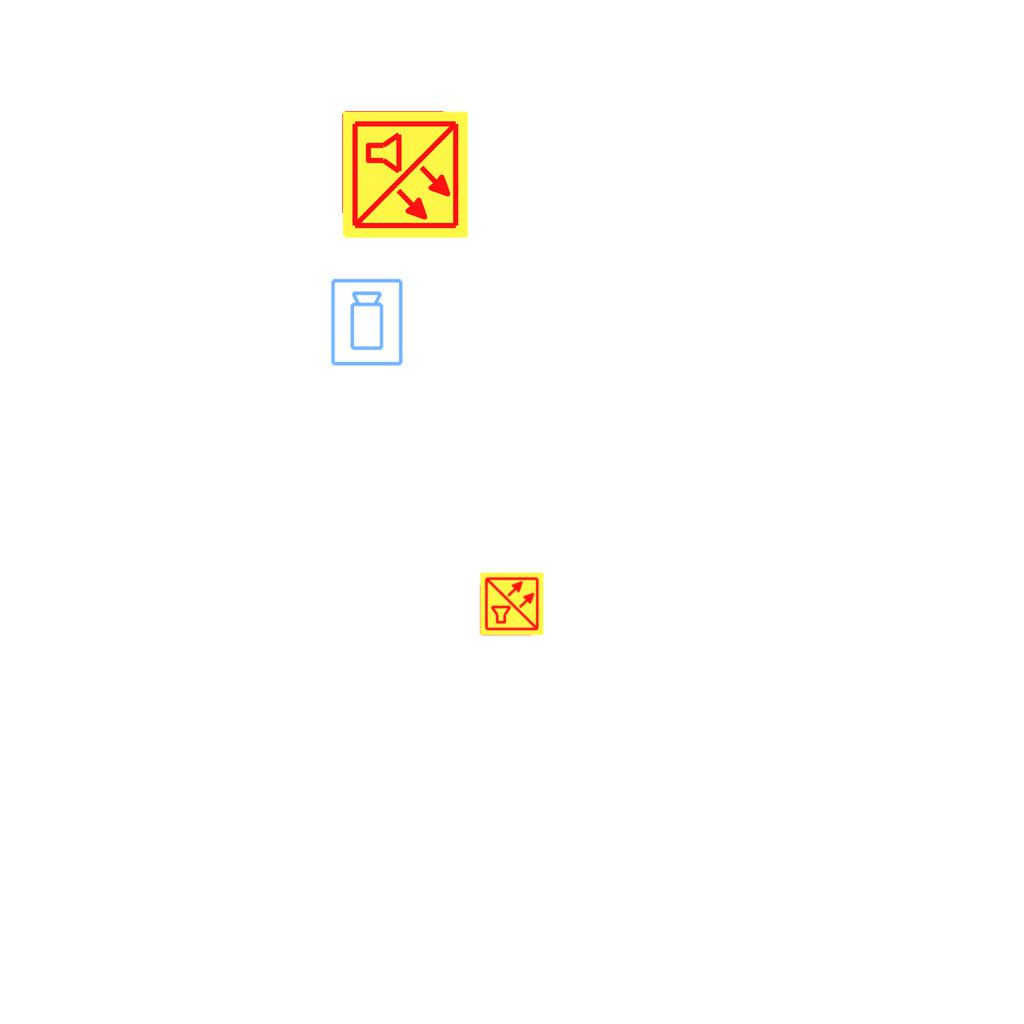KFO_Kamera_mit_Festobjektiv: (329, 277, 406, 368)
OKW_Multisensormelder_(Kombination_optischer_Rauch-Kahlenmonoxid_Waerme-Melder): (339, 109, 471, 241), (479, 571, 545, 637)
